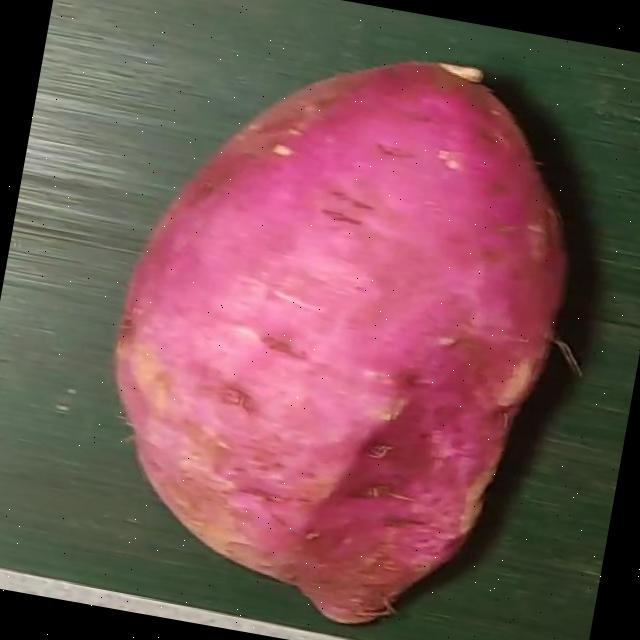Sweet Potato: (115, 57, 570, 622)
